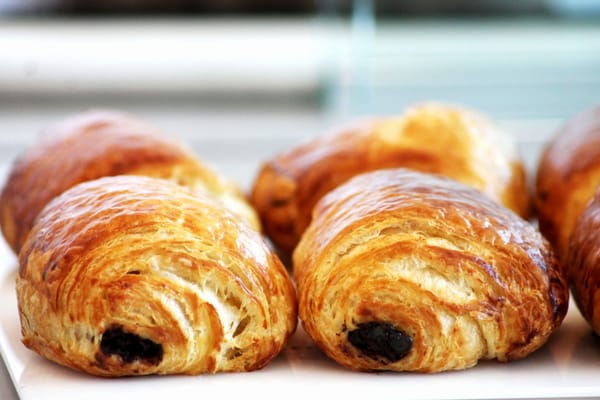salad: (14, 174, 299, 378), (291, 167, 570, 373), (251, 101, 535, 254), (0, 113, 259, 256), (533, 101, 600, 339), (533, 100, 600, 268), (565, 179, 600, 341)
